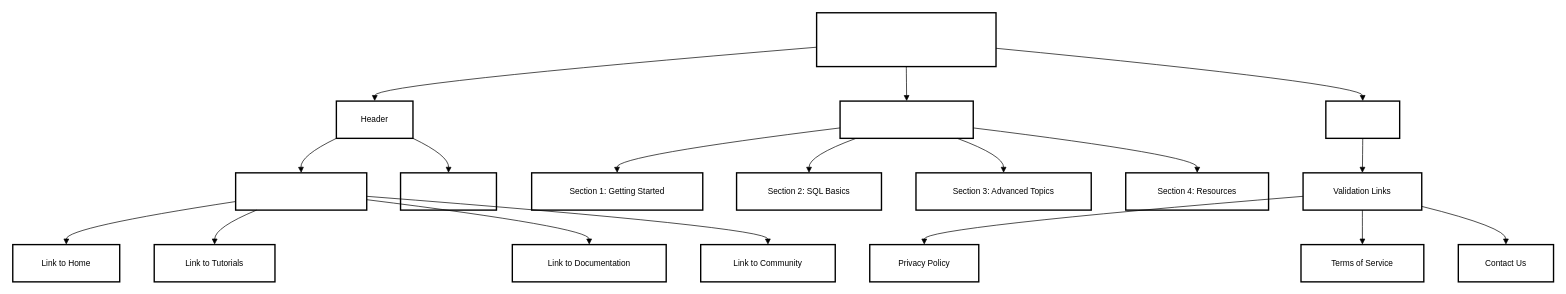
The diagram is 1566 pixels wide and 294 high, and some of its shapes have lost their labels. The shapes that lost their labels are listed below. From the top down, each one's centre as x and y in pixels, then its label:
point 906,39: Wireframe: SQL Starter Hub Site
point 906,119: Main Content Area
point 1362,119: Footer
point 301,191: Navigational Links
point 448,191: Brand Logo
